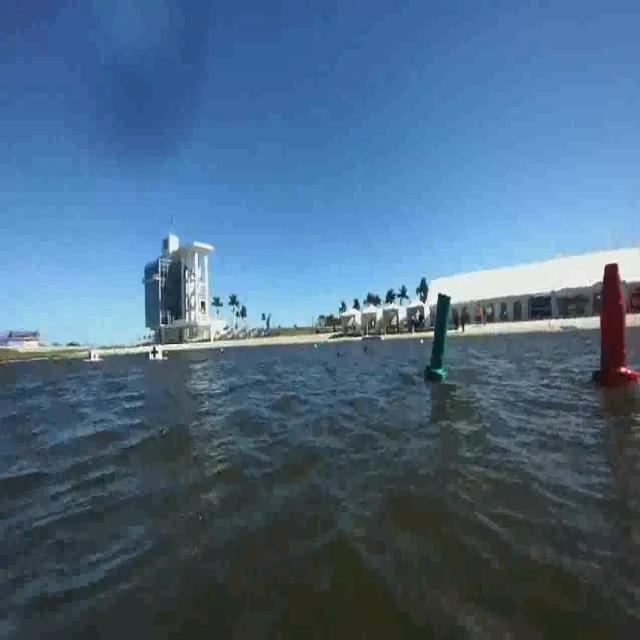green-column-buoy: (427, 293, 454, 381)
red-column-buoy: (596, 264, 639, 392)
